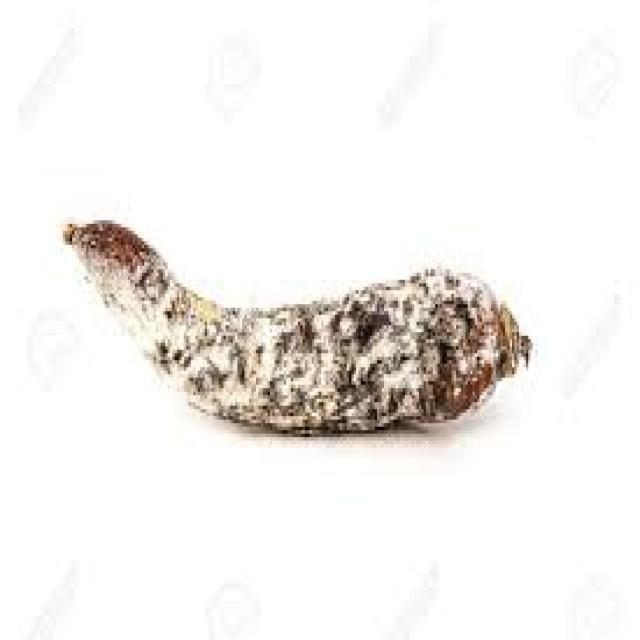Stale_Carrot: (65, 228, 530, 431)
